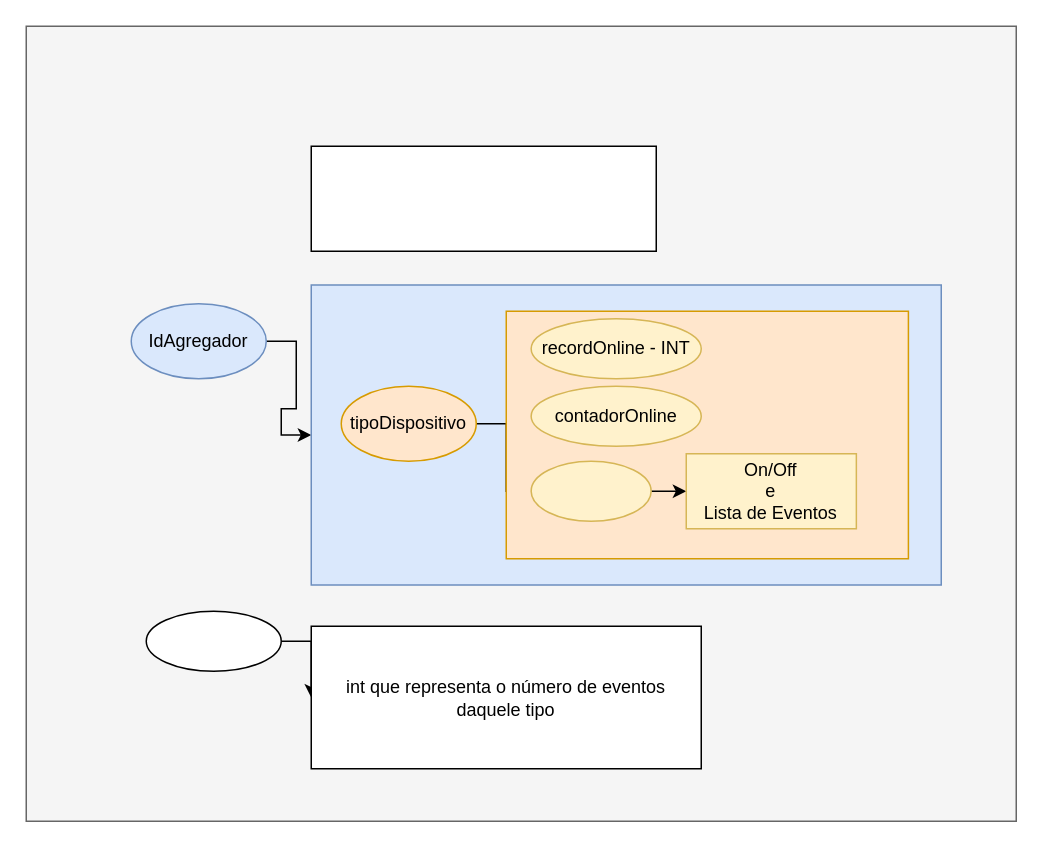
This 1043x848 diagram has some shape labels left out. Here are the shapes that lost their labels. From the top down, the centre of each, then its label:
(x=483, y=198): Guardar informação em Maps<> Cada bolinha é uma key; Cada Retângulo é um Value
(x=590, y=490): idDispositiivo
(x=213, y=640): tipoDeEvento
